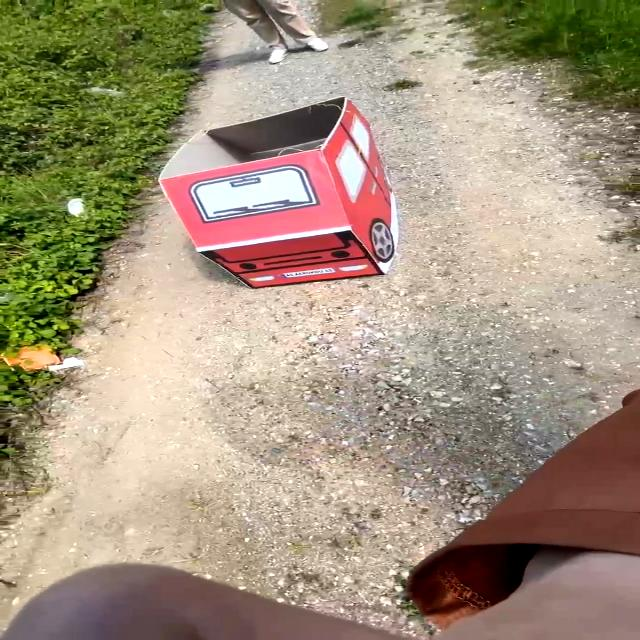red_car: (150, 84, 495, 276)
